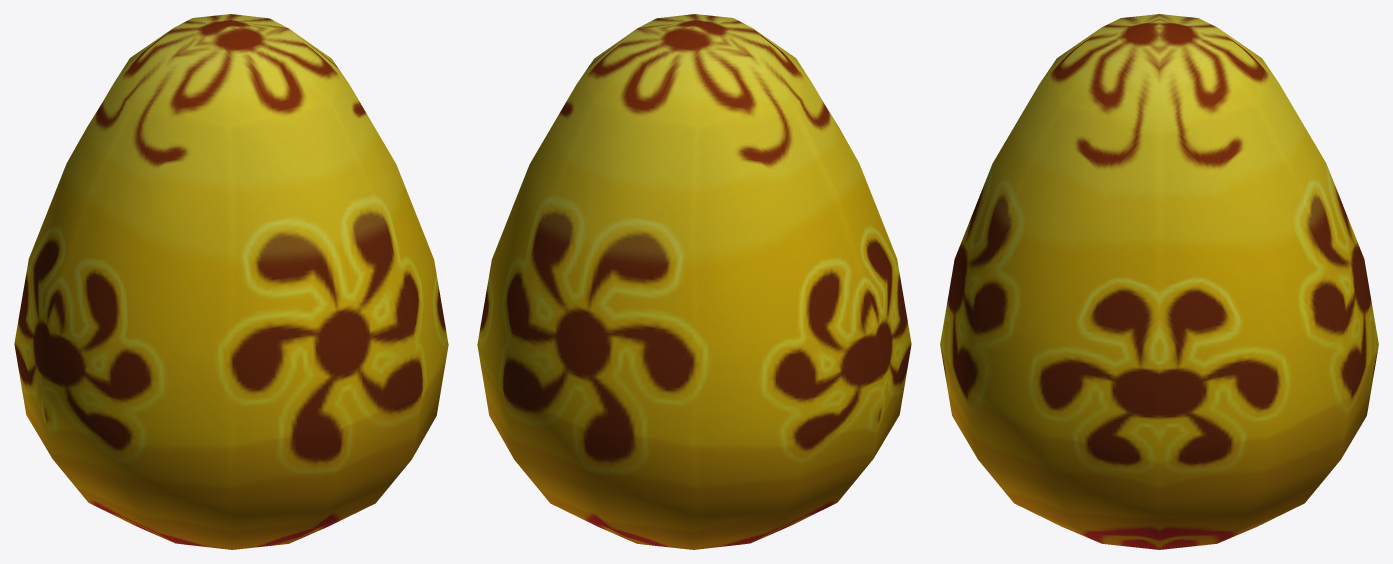
File: Egg_06(HighPoly).FBX
3 renders of one model, left to right at view 1: azimuth 30°, elevation 25°; view 2: azimuth 150°, elevation 25°; view 3: azimuth 270°, elevation 25°, orthographic.
Visible parts, largest first — view 1: Egg_06(HighPoly); view 2: Egg_06(HighPoly); view 3: Egg_06(HighPoly).
Boxes of the visible parts, x1,y1,x2,y2 form: Egg_06(HighPoly): (14,14,448,549); Egg_06(HighPoly): (477,14,911,549); Egg_06(HighPoly): (940,14,1378,549).
Bounding box in the file's own units: 0.4668 × 0.5861 × 0.4674.
